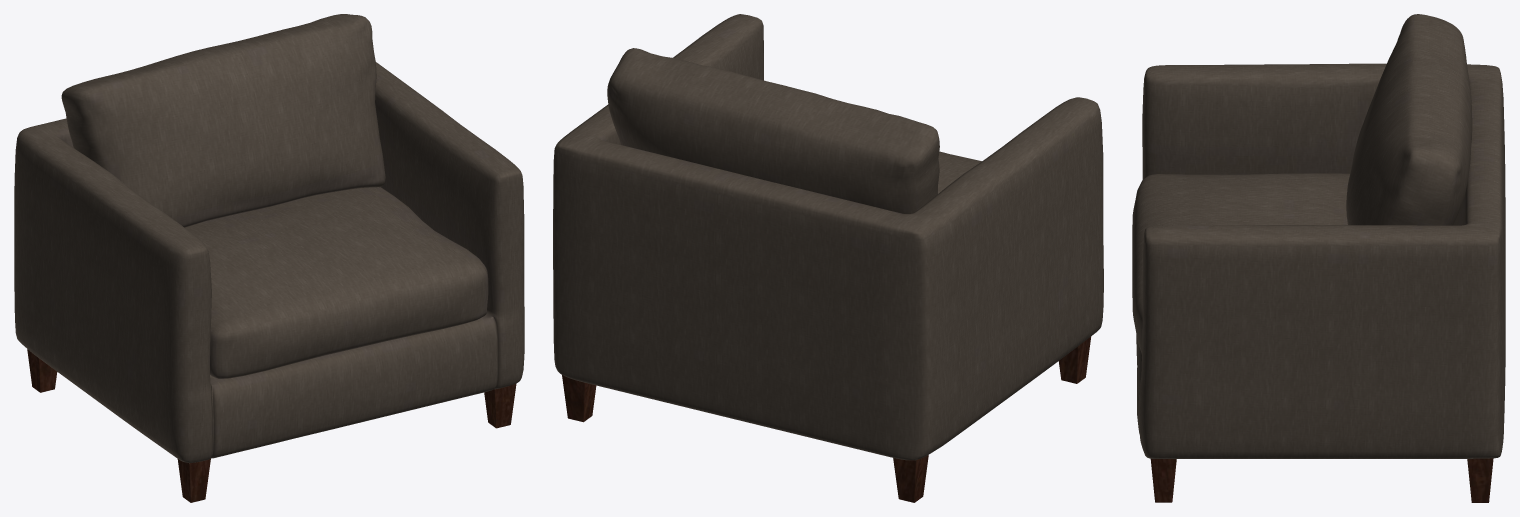
Rendered from office_chair_B07B4CXVB8.glb.
3 views of the same model, side by side, from view 1: azimuth 30°, elevation 25°; view 2: azimuth 150°, elevation 25°; view 3: azimuth 270°, elevation 25° (orthographic). The views are drawn at different scales.
Visible parts, largest first — view 1: RootNode; view 2: RootNode; view 3: RootNode.
Part boxes in pixels (x1,y1,x2,y2): RootNode: (14, 14, 524, 502); RootNode: (553, 14, 1103, 502); RootNode: (1132, 14, 1505, 502).
Bounding box in the file's own units: 1.11 × 0.9635 × 0.9588.
1 material, 1 textured.
